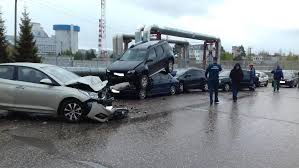car: (2, 55, 112, 129), (110, 35, 176, 85)
